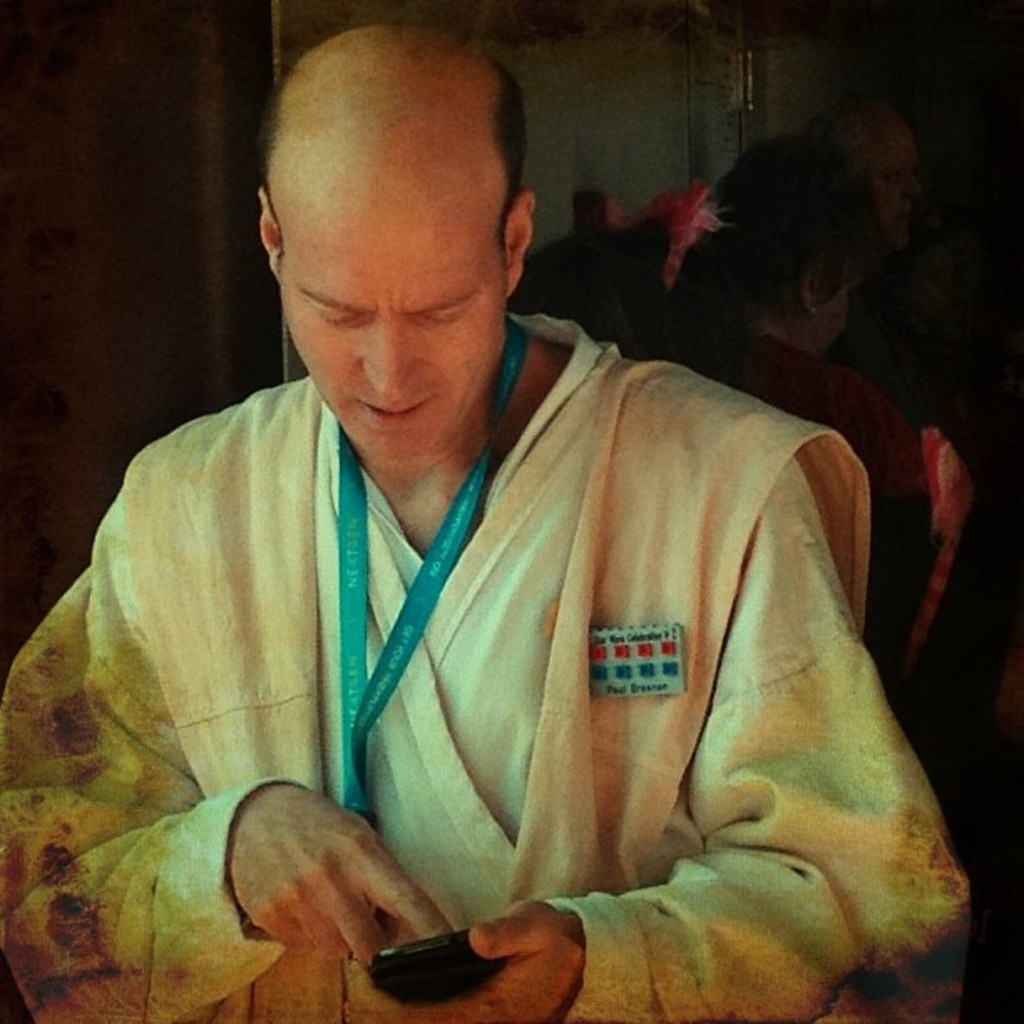Human_hand: (179, 771, 474, 992), (348, 895, 584, 1022)
